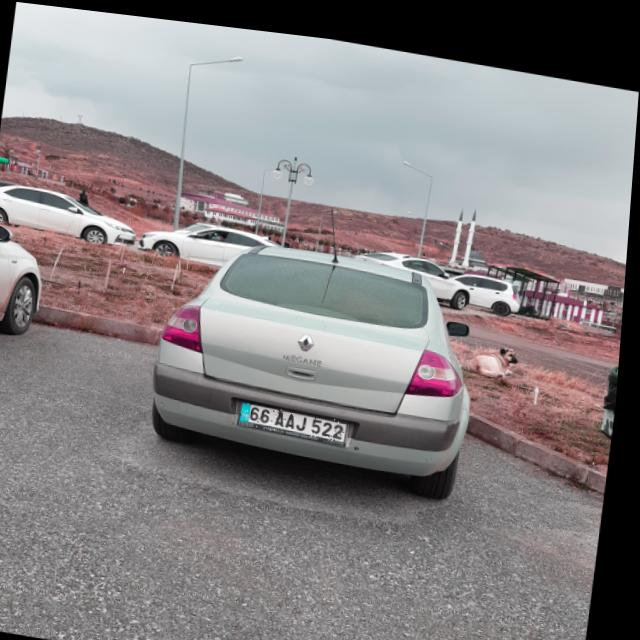license_plate: (245, 395, 355, 435)
